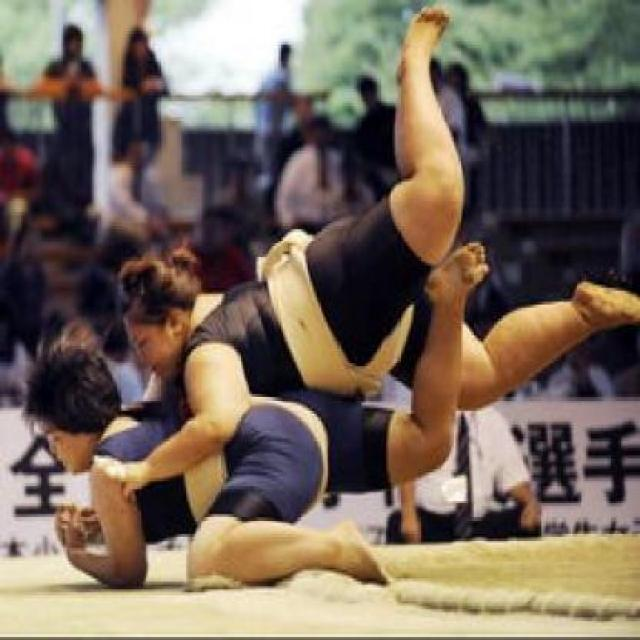fall: (123, 17, 631, 541)
